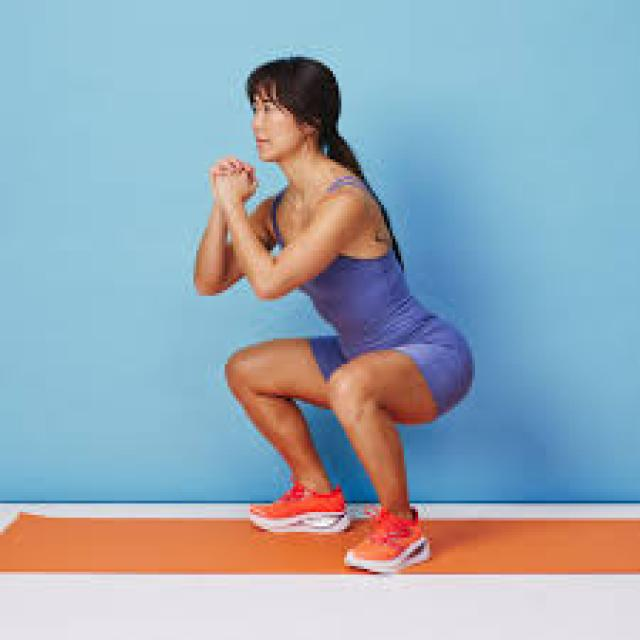squat: (189, 54, 480, 574)
